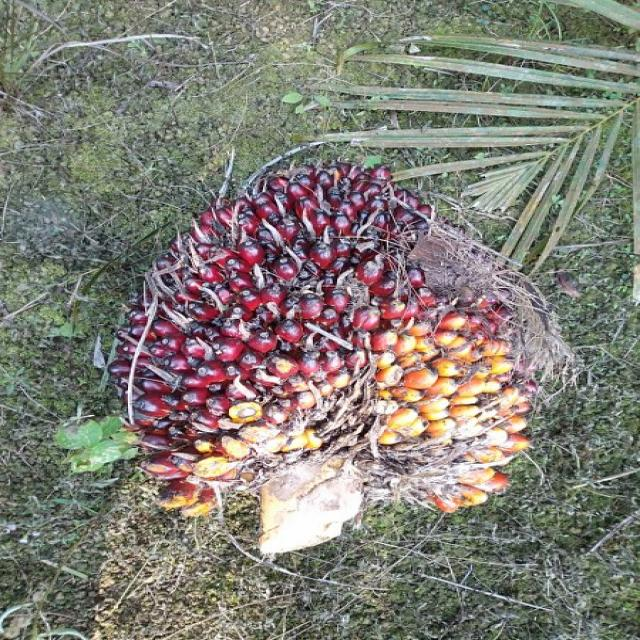fraksi 1: (60, 117, 577, 561)
